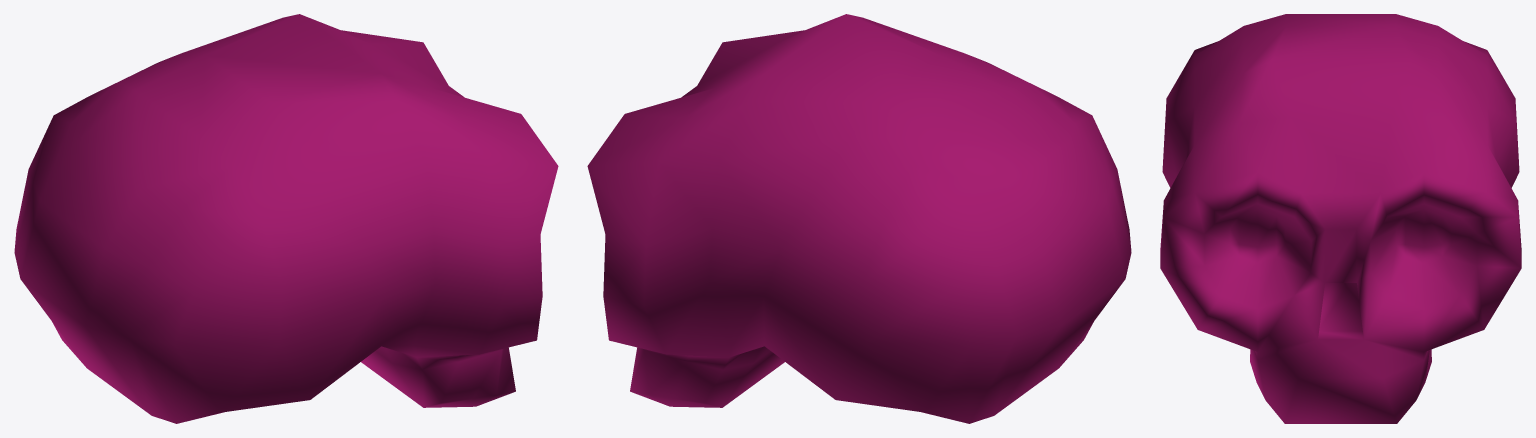
The model's file is Skull.fbx.
3 renders of one model, left to right at view 1: azimuth 30°, elevation 25°; view 2: azimuth 150°, elevation 25°; view 3: azimuth 270°, elevation 25°, orthographic. The views are drawn at different scales.
Visible parts, largest first — view 1: Skull; view 2: Skull; view 3: Skull.
Boxes of the visible parts, box(x1,y1,x2,y2) form: Skull: box(14, 14, 558, 423); Skull: box(587, 14, 1131, 423); Skull: box(1160, 14, 1521, 423).
Bounding box in the file's own units: 25.76 × 20.75 × 21.99.
